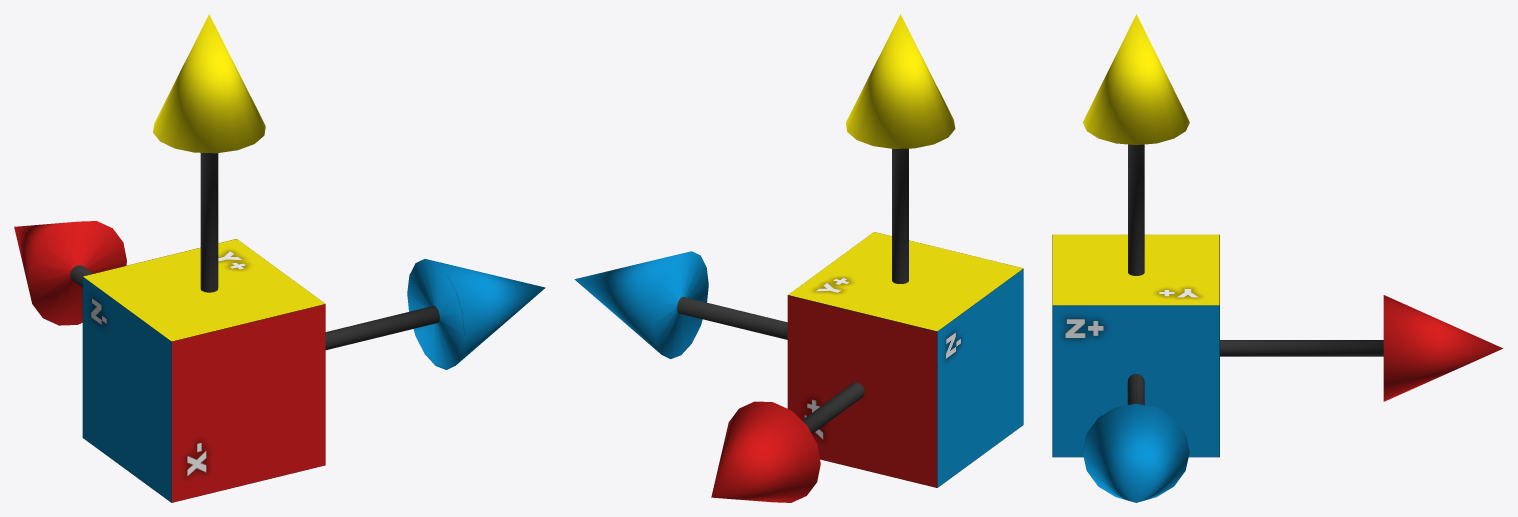
The model's file is debug_cube.fbx.
The picture shows the model from 3 angles, left to right: view 1: azimuth 30°, elevation 25°; view 2: azimuth 150°, elevation 25°; view 3: azimuth 270°, elevation 25°; orthographic projection. The views are drawn at different scales.
Visible parts, largest first — view 1: DebugCube; view 2: DebugCube; view 3: DebugCube.
Boxes of the visible parts, box(x1,y1,x2,y2) form: DebugCube: box(14, 14, 545, 502); DebugCube: box(574, 14, 1023, 502); DebugCube: box(1052, 14, 1502, 502).
Size of the model in its own units: 245 by 246 by 247.
